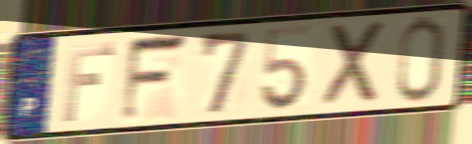0: (394, 13, 446, 106)
5: (257, 21, 321, 115)
7: (198, 29, 255, 117)
F: (118, 30, 192, 126), (60, 40, 118, 124)
X: (321, 18, 391, 111)
